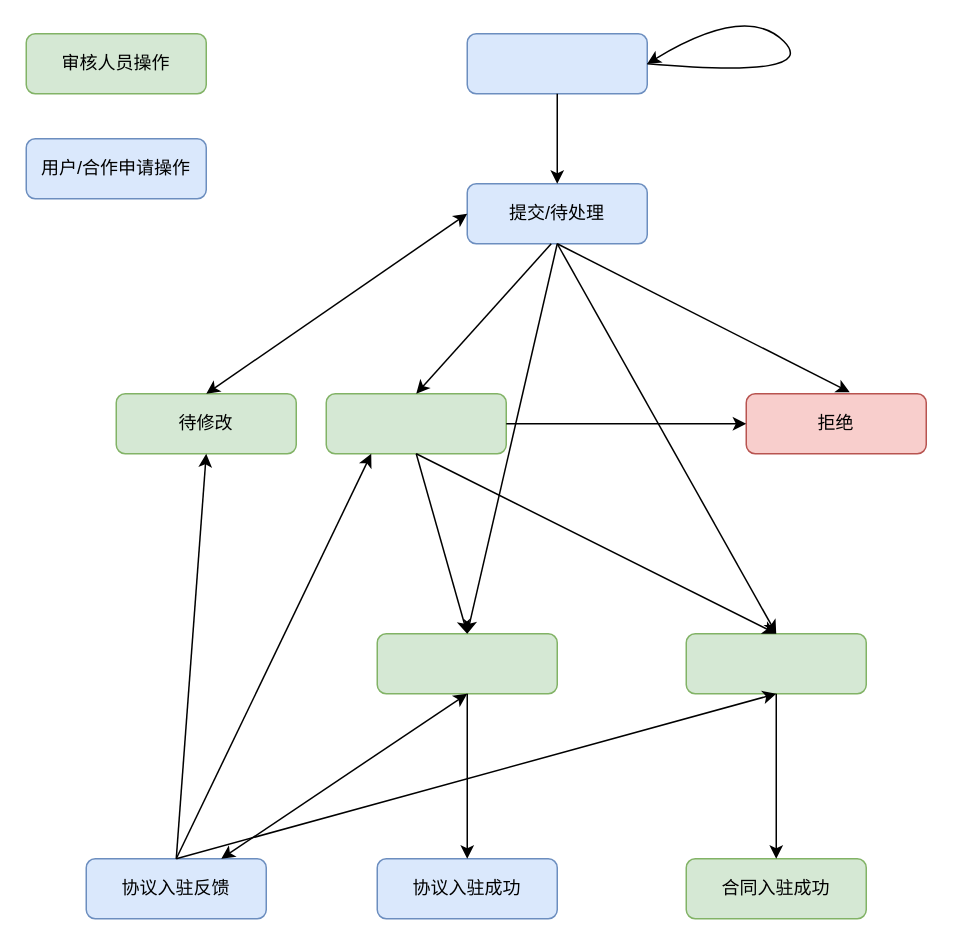
Some shapes in this 953 by 947 pixel diagram are drawn without their labels. Here are the shapes that lost their labels. From the top down, the centre of each, then its label:
At point (556, 63): "草稿".
At point (415, 423): "待定通过".
At point (466, 663): "待签署协议".
At point (775, 663): "待签署合同".
